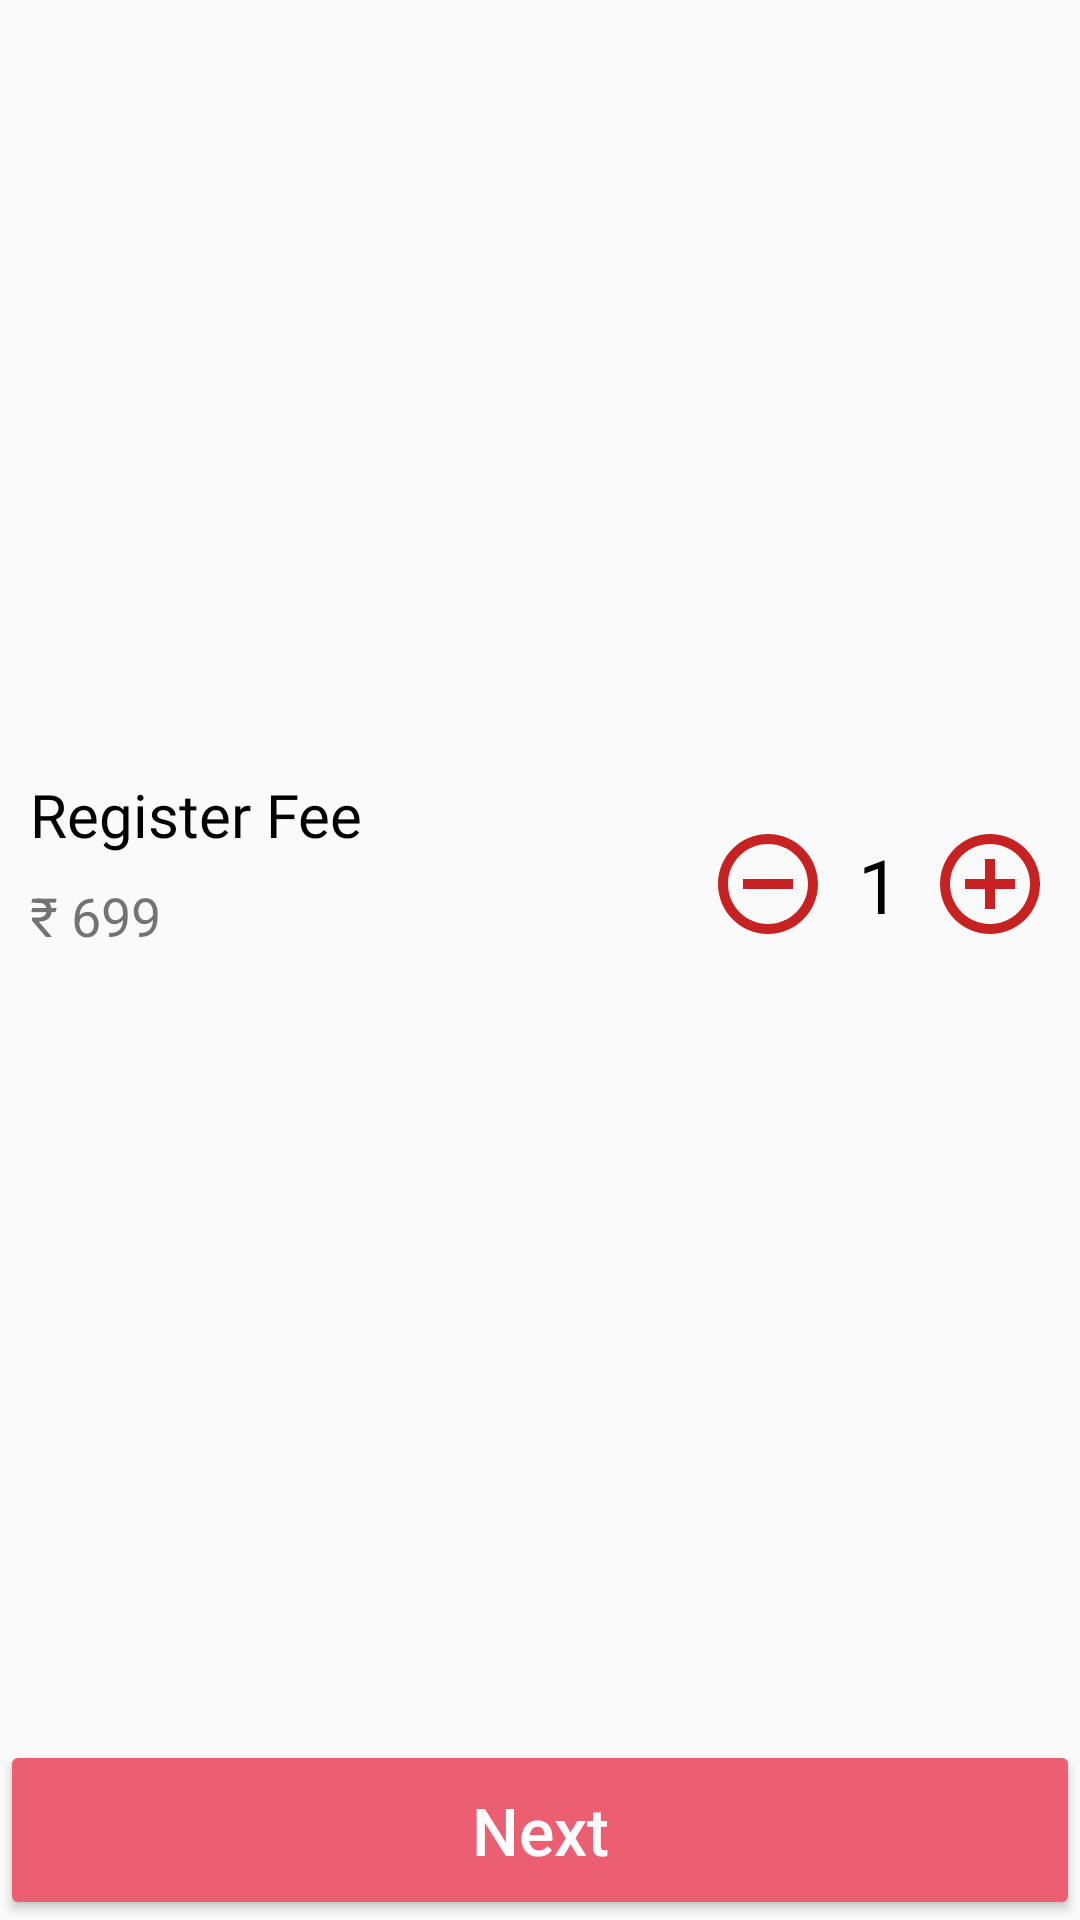

Point at icon controls on the screen. Image size 1080*1920, points as point (x, y).
add circle: point (990, 884)
remove circle: point (768, 884)
